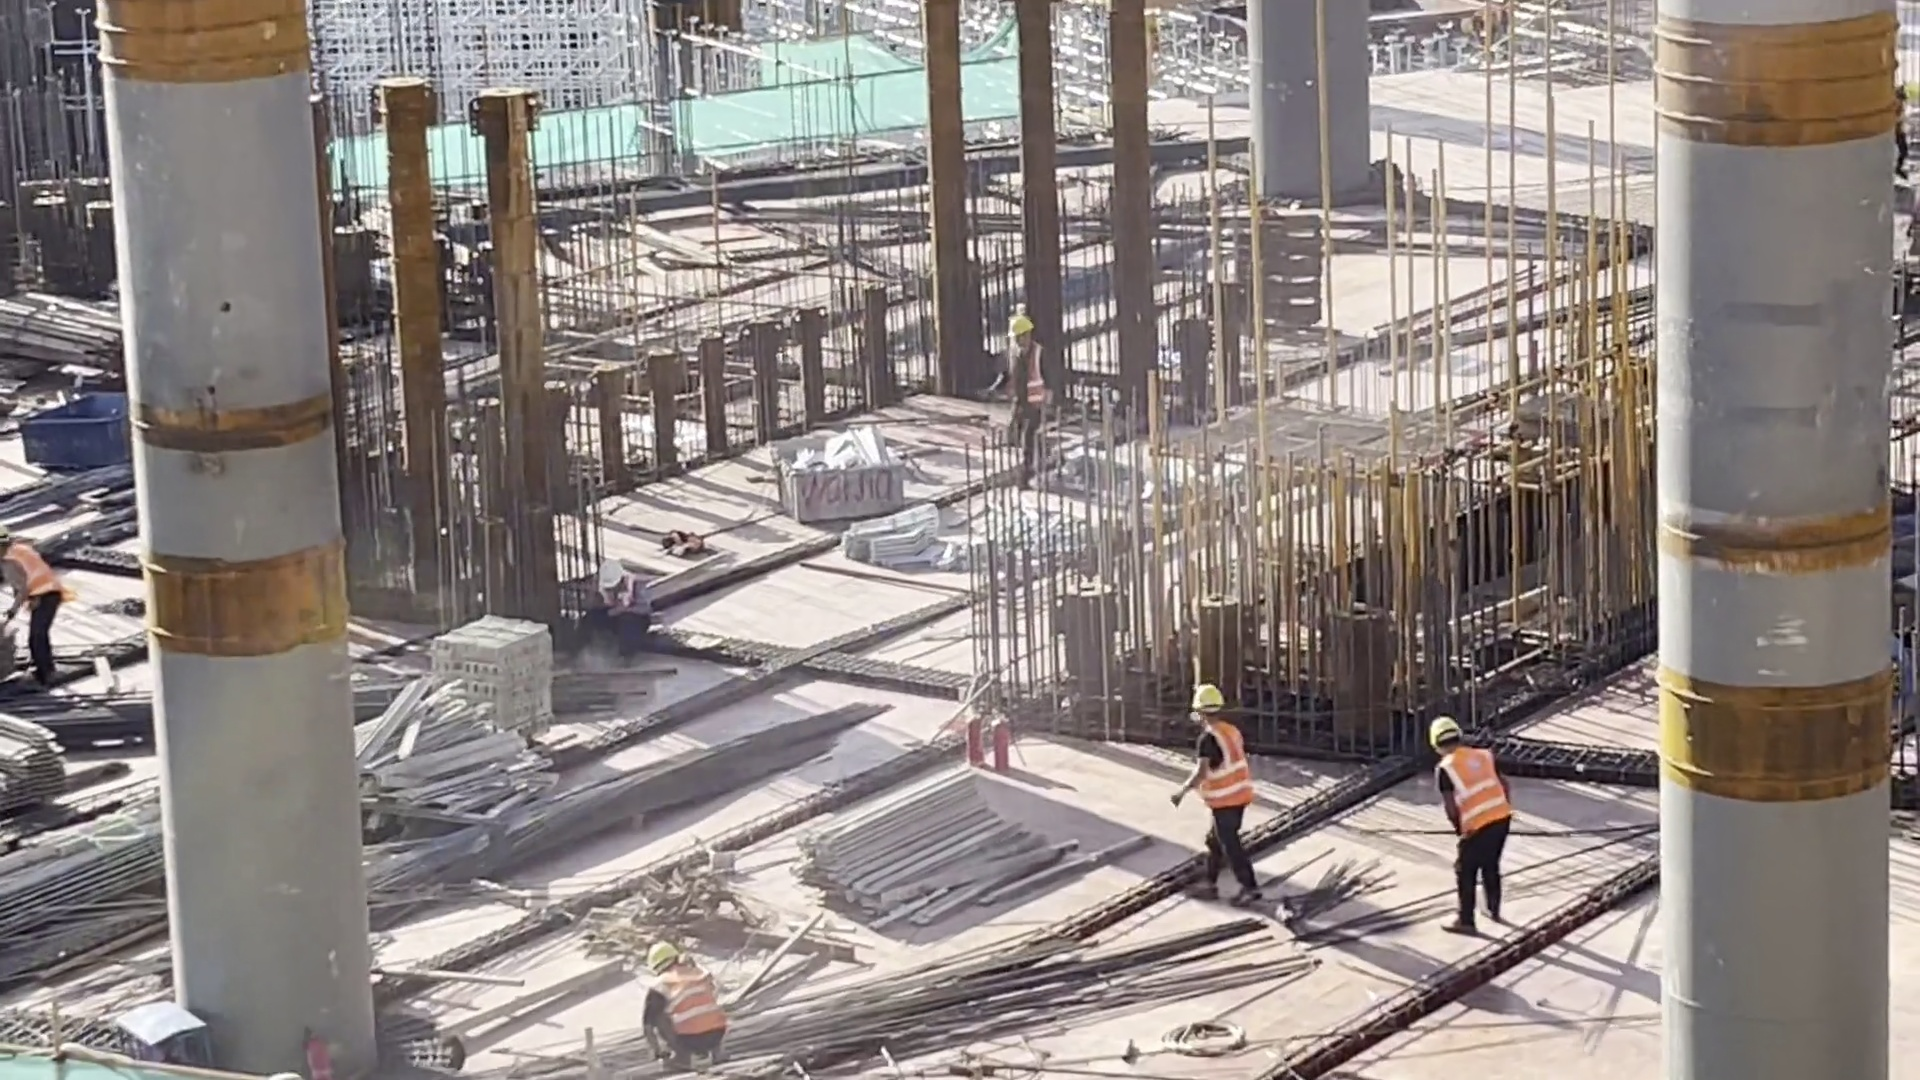helmet: (1183, 671, 1227, 716), (593, 558, 626, 593), (1430, 716, 1463, 748), (639, 948, 686, 964), (1007, 311, 1031, 335)
person: (1415, 695, 1515, 934), (1166, 669, 1254, 871), (633, 938, 736, 1068), (1, 526, 69, 700), (559, 550, 659, 664), (995, 298, 1044, 467)
vest: (1445, 759, 1515, 849), (1201, 715, 1249, 808), (648, 985, 724, 1034), (1, 549, 61, 601), (1015, 361, 1045, 407)
